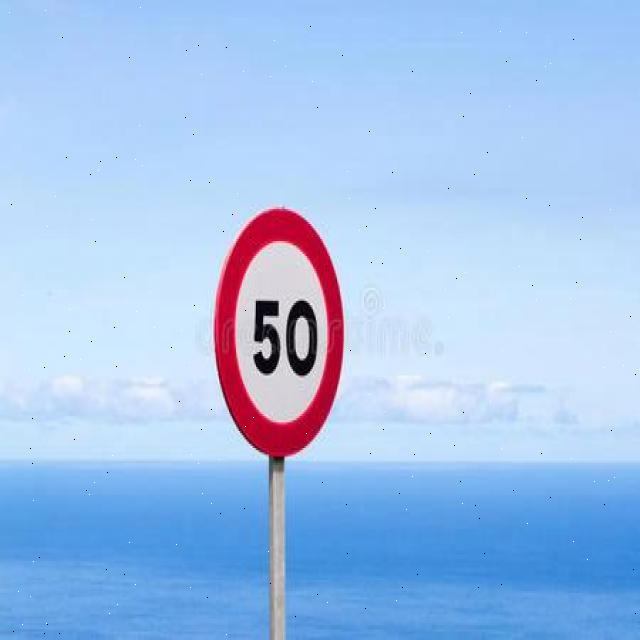speed limit 50: (213, 206, 345, 457)
